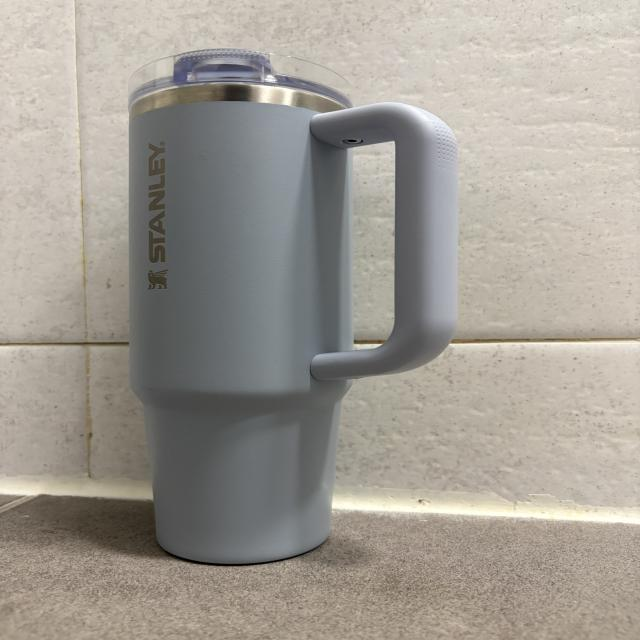waterbottle: (127, 50, 452, 567)
